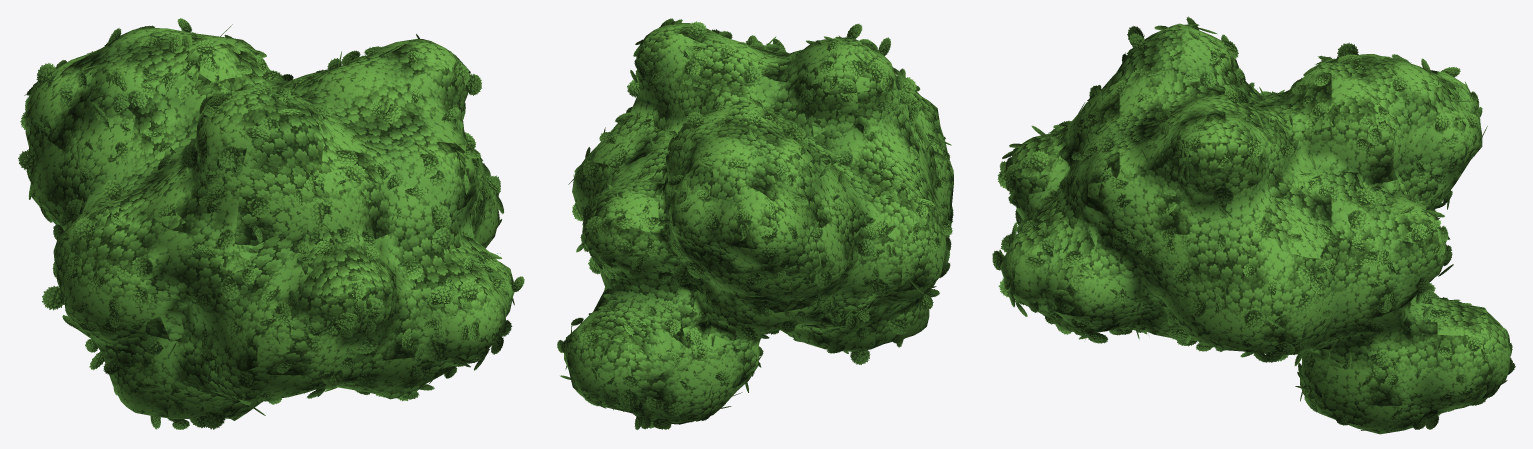
Rendered from ballbush_v2_s8012.gltf.
3 renders of one model, left to right at view 1: azimuth 30°, elevation 25°; view 2: azimuth 150°, elevation 25°; view 3: azimuth 270°, elevation 25°, orthographic. The views are drawn at different scales.
Visible parts, largest first — view 1: ballbush_v2_s8012_volume_LOD0, ballbush_v2_s8012_leaves_LOD0; view 2: ballbush_v2_s8012_volume_LOD0, ballbush_v2_s8012_leaves_LOD0; view 3: ballbush_v2_s8012_volume_LOD0, ballbush_v2_s8012_leaves_LOD0.
Boxes of the visible parts, x1,y1,x2,y2 form: ballbush_v2_s8012_volume_LOD0: [25, 28, 513, 420]; ballbush_v2_s8012_leaves_LOD0: [18, 18, 524, 429]; ballbush_v2_s8012_volume_LOD0: [564, 23, 953, 424]; ballbush_v2_s8012_leaves_LOD0: [557, 18, 953, 429]; ballbush_v2_s8012_volume_LOD0: [1000, 23, 1510, 434]; ballbush_v2_s8012_leaves_LOD0: [992, 16, 1515, 431].
Size of what is drawn, in the model's own units: 1.66 by 1.4 by 1.89.
2 materials, 2 textured.
